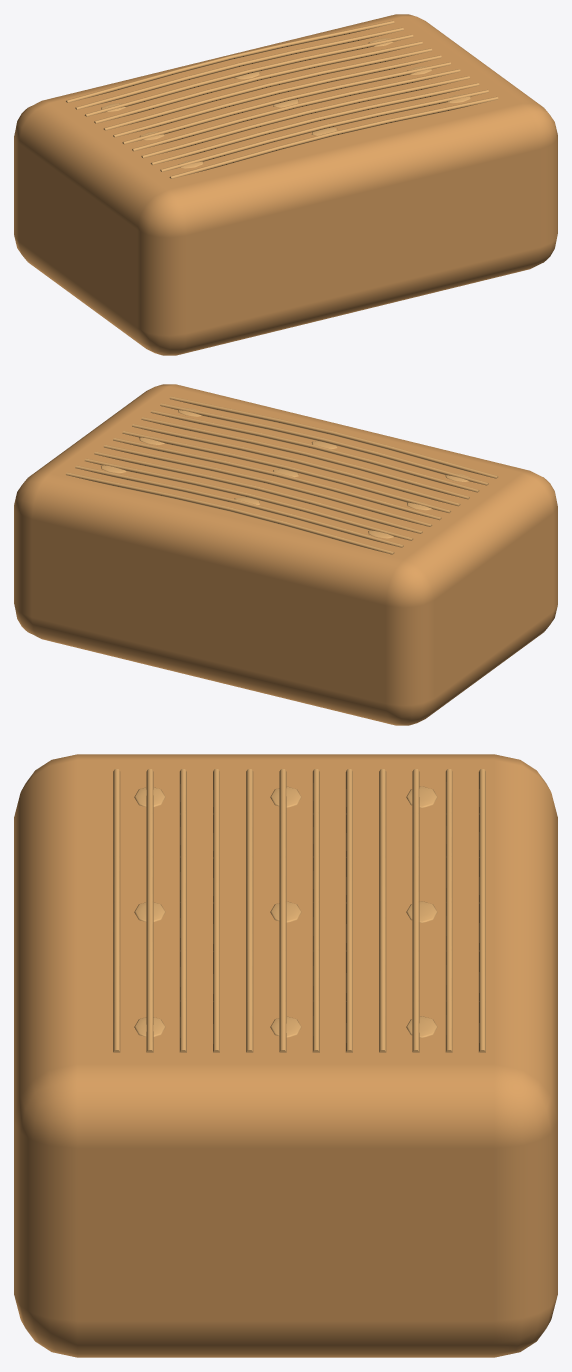
File: cheesemaking-and-dairy-cellar-washed-rind-cheese-block-055003ad__30895.glb
3 views of the same model, one above another, from view 1: azimuth 30°, elevation 25°; view 2: azimuth 150°, elevation 25°; view 3: azimuth 270°, elevation 25° (orthographic). The views are drawn at different scales.
Visible parts, largest first — view 1: washed-rind-cheese-block; view 2: washed-rind-cheese-block; view 3: washed-rind-cheese-block.
Part boxes in pixels (left/top/right/bottom): washed-rind-cheese-block: left=14, top=14, right=557, bottom=355; washed-rind-cheese-block: left=14, top=384, right=557, bottom=725; washed-rind-cheese-block: left=14, top=754, right=557, bottom=1357.
Size of the model in its own units: 0.28 by 0.1091 by 0.18.
